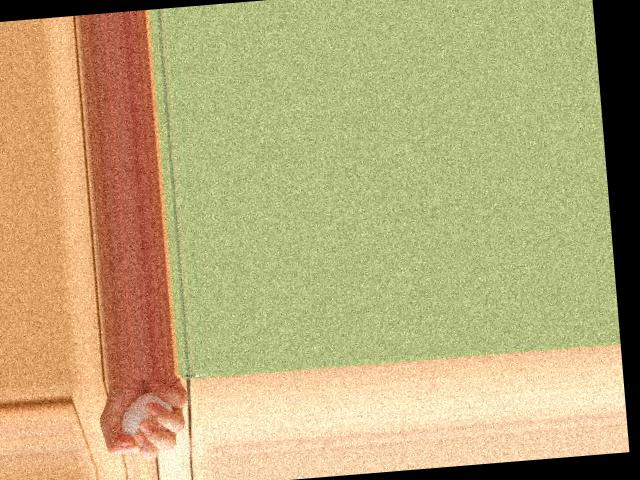egg: (119, 390, 175, 442)
